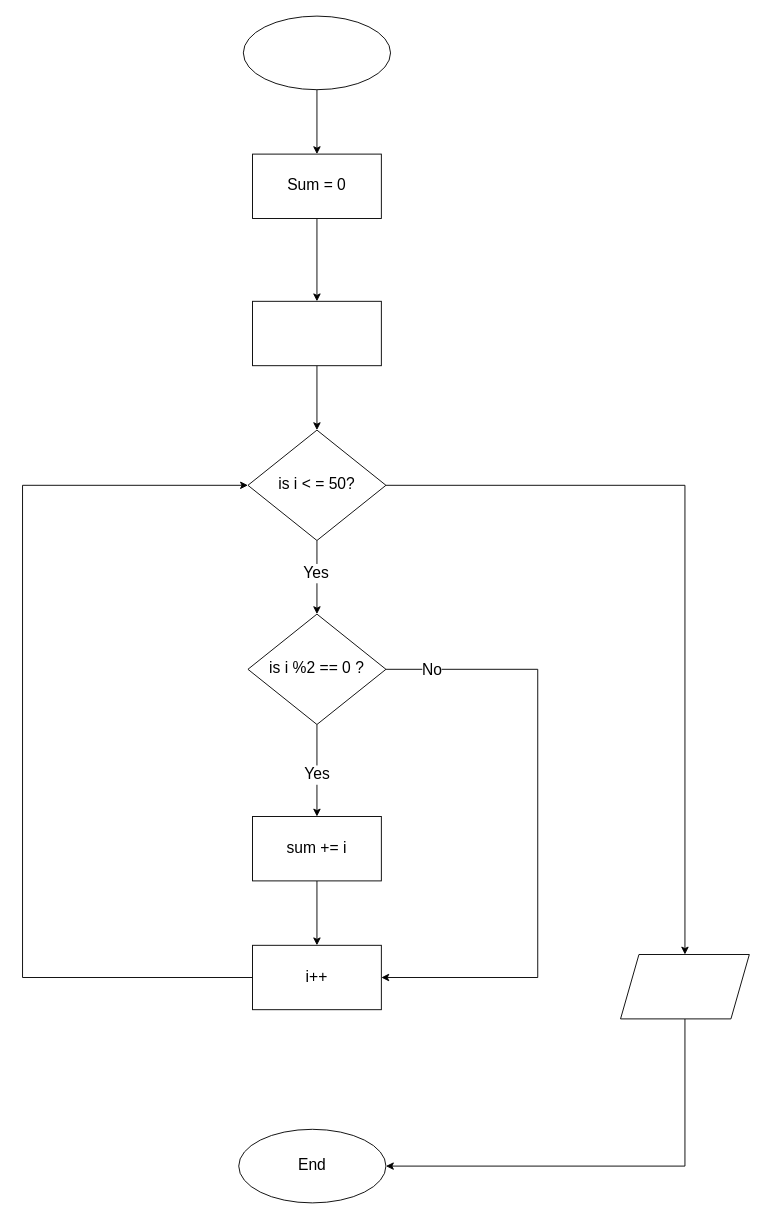
Image size: 765x1219. Some labels were removed from this diagram. The centre of each missing label's shape, as x and y in pixels:
i = 1: point (316, 333)
Print: Sum: point (684, 986)
Start: point (316, 52)
